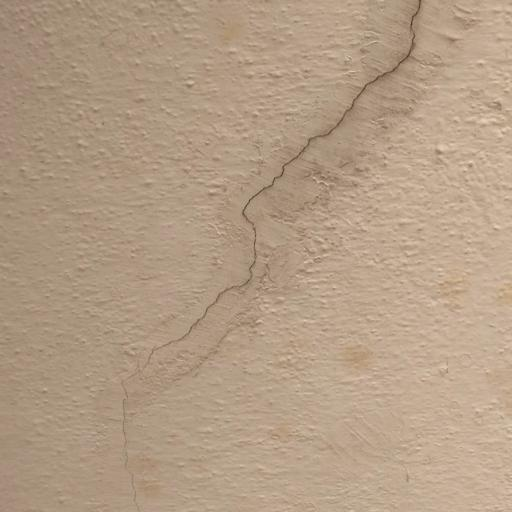minor_crack: (102, 4, 432, 512)
